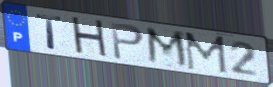2: (229, 41, 259, 78)
H: (69, 15, 111, 61)
M: (144, 25, 192, 71), (183, 31, 229, 76)
P: (109, 21, 146, 62)
T: (34, 13, 65, 52)
